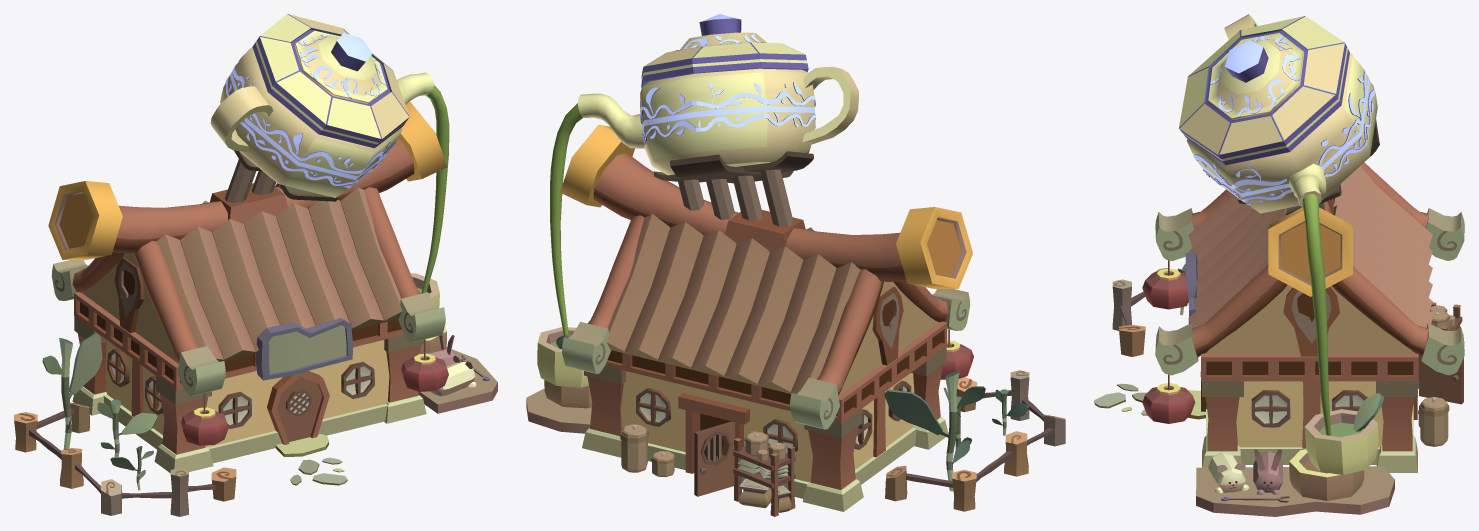
3 renders of one model, left to right at view 1: azimuth 30°, elevation 25°; view 2: azimuth 150°, elevation 25°; view 3: azimuth 270°, elevation 25°, orthographic. The views are drawn at different scales.
Parts seen in each view (by area): view 1: Roof01, TeaPot01, BaseBot01, RoofDetails01, RoofDetails02, Fence01, Board01, BaseMid01, Door01, Lamps01, Plant01, BaseTop01 (+9 smaller); view 2: Roof01, TeaPot01, RoofDetails01, BaseBot01, RoofDetails02, BaseMid01, Hold01, Fence01, Plant01, Door02, heh, BaseTop01 (+12 smaller); view 3: TeaPot01, Roof01, RoofDetails02, BaseBot01, BaseMid01, BaseTop01, Platform01, RoofDetails01, TeaCup01, Lamps01, heh, TeaCup02 (+11 smaller).
Boxes of the visible parts, x1=… form: Roof01: x1=156, y1=187, x2=402, y2=361; TeaPot01: x1=210, y1=14, x2=434, y2=197; BaseBot01: x1=72, y1=316, x2=426, y2=473; RoofDetails01: x1=48, y1=101, x2=446, y2=259; RoofDetails02: x1=51, y1=187, x2=445, y2=395; Fence01: x1=14, y1=402, x2=236, y2=516; Board01: x1=255, y1=318, x2=353, y2=380; BaseMid01: x1=74, y1=292, x2=404, y2=390; Door01: x1=267, y1=371, x2=329, y2=444; Lamps01: x1=180, y1=339, x2=448, y2=445; Plant01: x1=42, y1=333, x2=102, y2=449; BaseTop01: x1=82, y1=253, x2=178, y2=363; Roof01: x1=606, y1=213, x2=860, y2=393; TeaPot01: x1=578, y1=14, x2=858, y2=175; RoofDetails01: x1=560, y1=124, x2=972, y2=288; BaseBot01: x1=582, y1=347, x2=948, y2=511; RoofDetails02: x1=562, y1=215, x2=970, y2=429; BaseMid01: x1=605, y1=321, x2=947, y2=423; Hold01: x1=654, y1=151, x2=813, y2=226; Fence01: x1=885, y1=370, x2=1065, y2=511; Plant01: x1=884, y1=371, x2=985, y2=491; Door02: x1=694, y1=421, x2=734, y2=496; heh: x1=550, y1=103, x2=582, y2=334; BaseTop01: x1=838, y1=281, x2=938, y2=395; TeaPot01: x1=1179, y1=14, x2=1377, y2=213; Roof01: x1=1188, y1=166, x2=1432, y2=327; RoofDetails02: x1=1155, y1=162, x2=1464, y2=375; BaseBot01: x1=1202, y1=381, x2=1417, y2=472; BaseMid01: x1=1201, y1=353, x2=1418, y2=381; BaseTop01: x1=1205, y1=285, x2=1414, y2=353; Platform01: x1=1196, y1=466, x2=1394, y2=516; RoofDetails01: x1=1268, y1=54, x2=1352, y2=296; TeaCup01: x1=1304, y1=393, x2=1383, y2=474; Lamps01: x1=1142, y1=260, x2=1195, y2=423; heh: x1=1302, y1=194, x2=1331, y2=435; TeaCup02: x1=1289, y1=449, x2=1364, y2=500.
Bounding box in the file's own units: 0.2243 × 0.1858 × 0.156.
